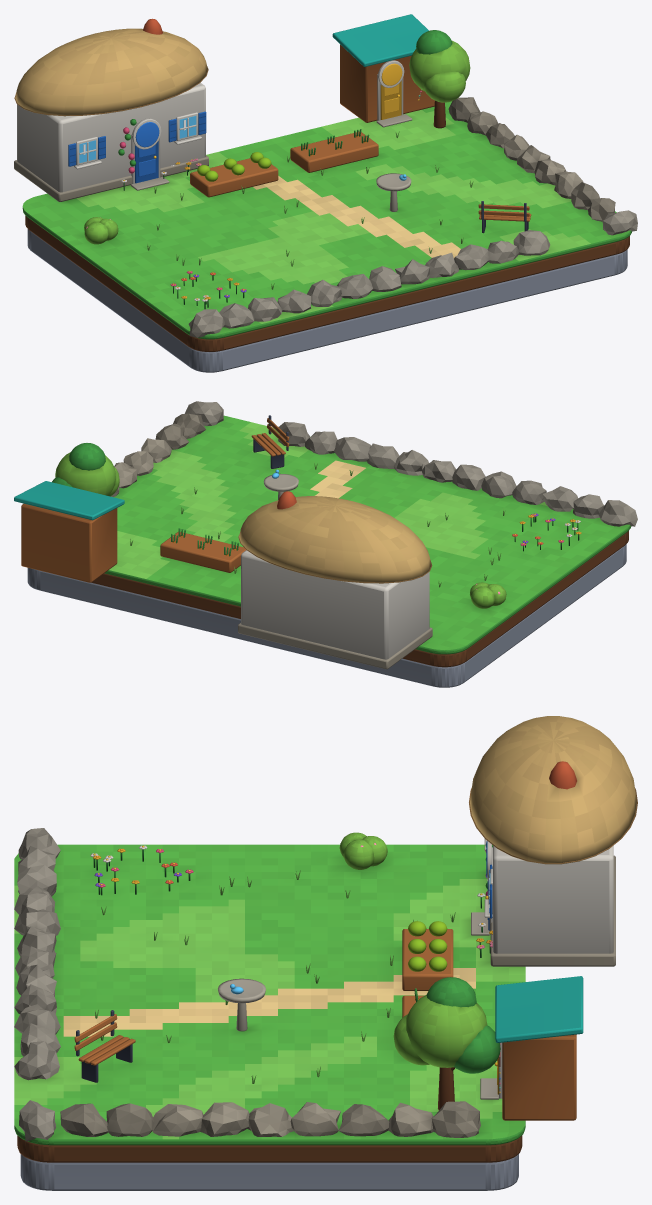
File: cottage.glb
The picture shows the model from 3 angles, top to bottom: view 1: azimuth 30°, elevation 25°; view 2: azimuth 150°, elevation 25°; view 3: azimuth 270°, elevation 25°; orthographic projection. The views are drawn at different scales.
Visible parts, largest first — view 1: cottage_Satin, cottage_Matte, cottage_Gloss; view 2: cottage_Satin, cottage_Matte, cottage_Gloss; view 3: cottage_Matte, cottage_Satin, cottage_Gloss.
Boxes of the visible parts, box(x1,y1,x2,y2) form: cottage_Satin: box(14, 18, 637, 372); cottage_Matte: box(22, 101, 632, 339); cottage_Gloss: box(79, 14, 528, 299); cottage_Satin: box(21, 401, 637, 687); cottage_Matte: box(104, 415, 631, 654); cottage_Gloss: box(14, 415, 579, 594); cottage_Matte: box(14, 844, 525, 1145); cottage_Satin: box(14, 716, 637, 1190); cottage_Gloss: box(76, 841, 583, 1094).
Size of the model in its own units: 15.21 by 5.72 by 13.42.
